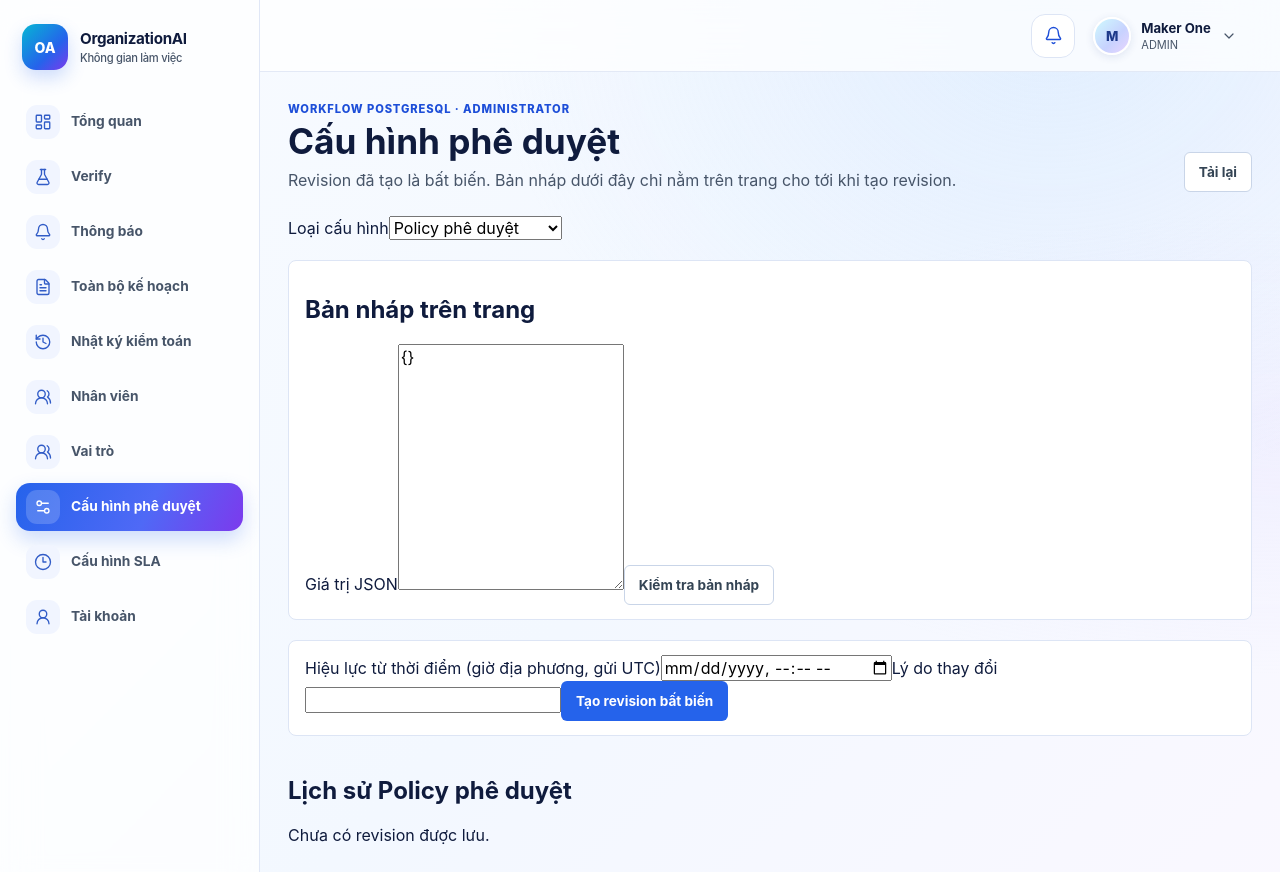
Scenario: Auth-first route entry › warns that valid custom Strategy weights are not supported by the evaluator
This screenshot has width=1280, height=872.
expect the heading "Cấu hình phê duyệt" is shown: met, box [288,120,620,162]
Select "Rubric chiến lược" in the dropdown labelled "Loại cấu hình" at (475, 228), box [389,216,562,240]
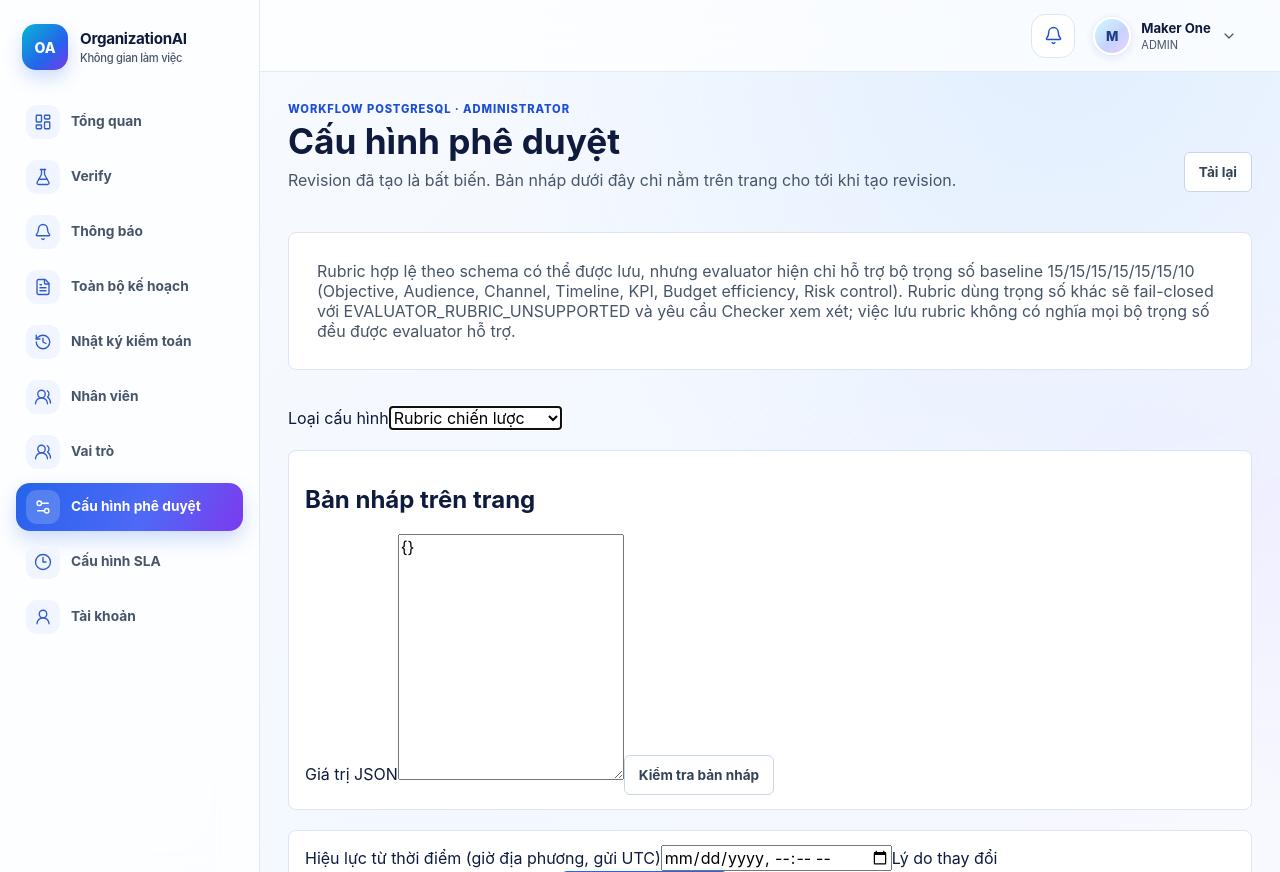
expect the text "evaluator hiện chỉ hỗ trợ bộ trọng số baseline 15/15/15/15/15/15/10" is shown: met, box [317,262,1214,342]
expect the text "EVALUATOR_RUBRIC_UNSUPPORTED" is shown: met, box [317,262,1214,342]
